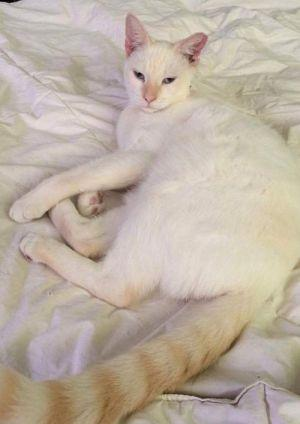siamese: (117, 10, 209, 122)
